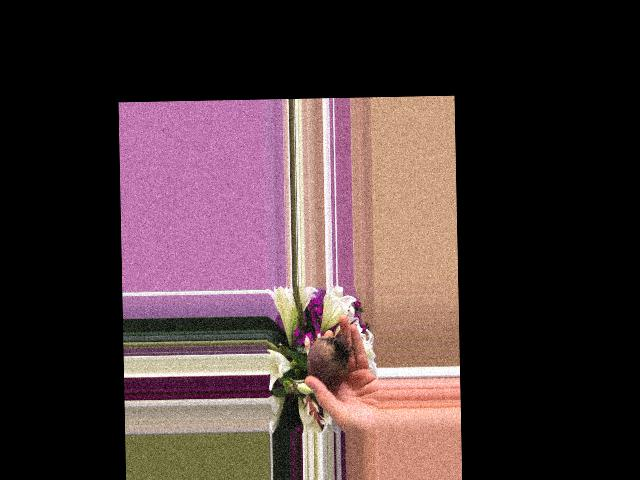beet: (286, 333, 350, 390)
